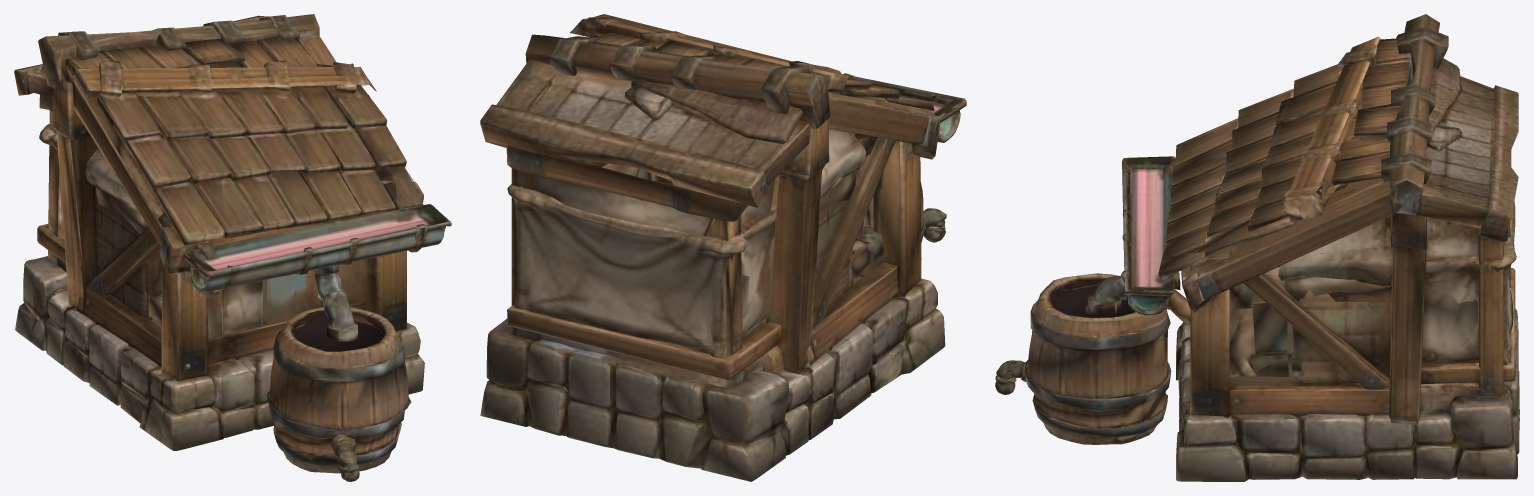
Rendered from shelter_t2_raintank.glb.
3 views of the same model, side by side, from view 1: azimuth 30°, elevation 25°; view 2: azimuth 150°, elevation 25°; view 3: azimuth 270°, elevation 25° (orthographic). The views are drawn at different scales.
Bounding box in the file's own units: 0.2412 × 0.2842 × 0.3955.
Materials: 1 (1 with a texture image).
